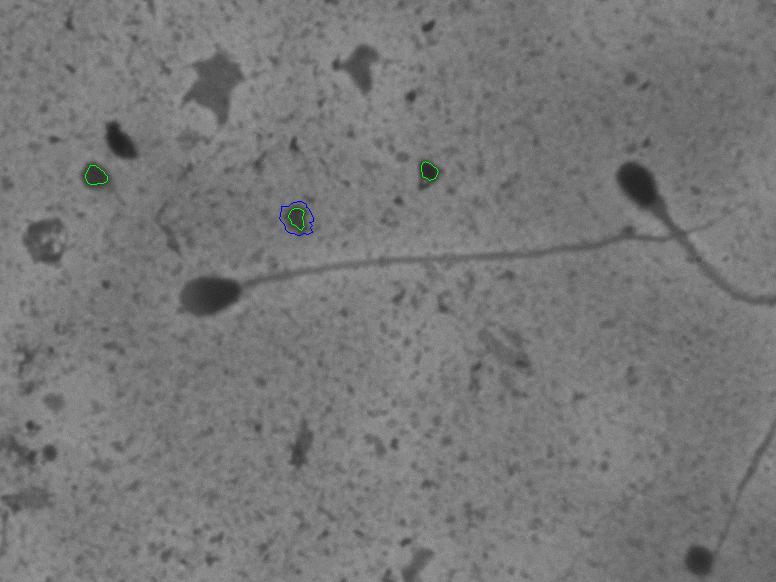Normal: (168, 189, 758, 327)
